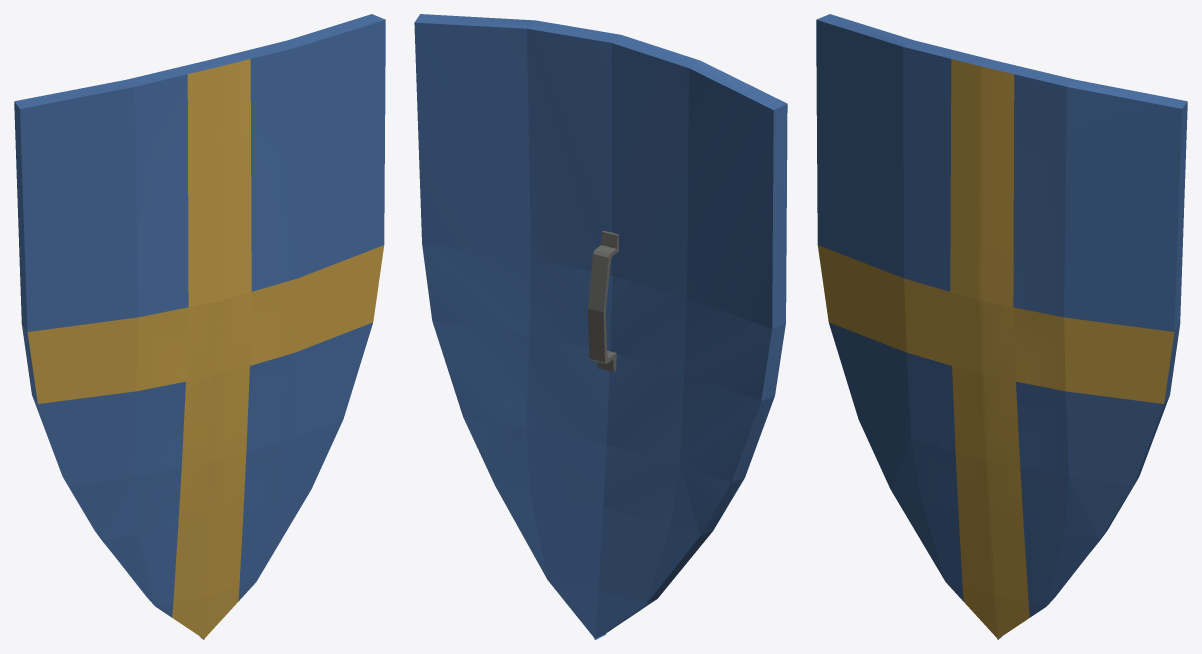
Rendered from SM_pwe_medieval_shield_08b.fbx.
3 renders of one model, left to right at view 1: azimuth 30°, elevation 25°; view 2: azimuth 150°, elevation 25°; view 3: azimuth 330°, elevation 25°, orthographic.
Visible parts, largest first — view 1: SM_pwe_medieval_shield_08b; view 2: SM_pwe_medieval_shield_08b; view 3: SM_pwe_medieval_shield_08b.
Part boxes in pixels (bbox=[...]): SM_pwe_medieval_shield_08b: bbox=[14, 14, 385, 639]; SM_pwe_medieval_shield_08b: bbox=[414, 14, 787, 639]; SM_pwe_medieval_shield_08b: bbox=[816, 14, 1187, 639].
Size of the model in its own units: 63.01 by 96.33 by 8.5.
